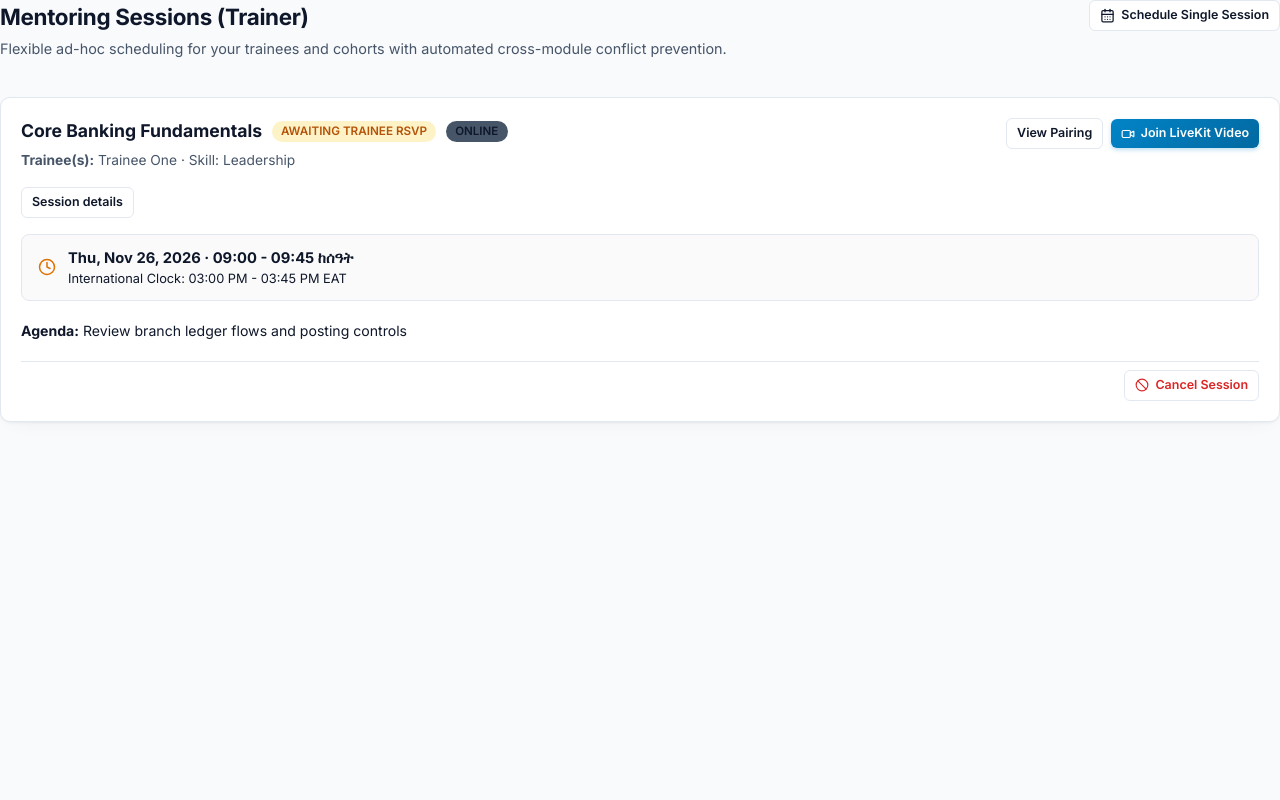
MentoringSessionsPage › renders "Join LiveKit Video" on the scheduled day and launches the video room modal
This screenshot has width=1280, height=800.
Click the button "Join LiveKit Video" at coordinates (1185, 134), box x1=1111 y1=119 x2=1259 y2=148
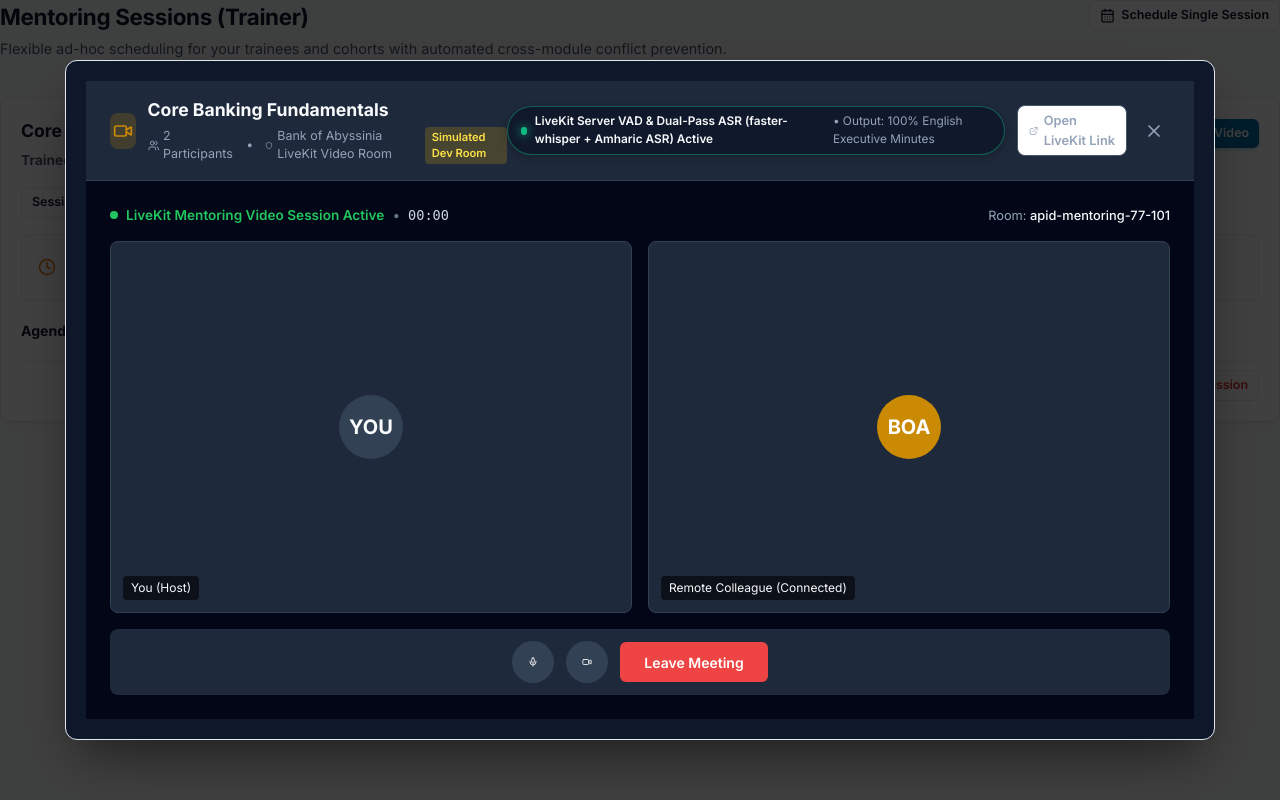
Check: the text "LiveKit Mentoring Video Session Active" is shown, box x1=126 y1=205 x2=384 y2=225
Check: the text "apid-mentoring-77-101" is shown, box x1=1030 y1=208 x2=1170 y2=223
Check: the button "Leave Meeting" is shown, box x1=620 y1=642 x2=768 y2=682
